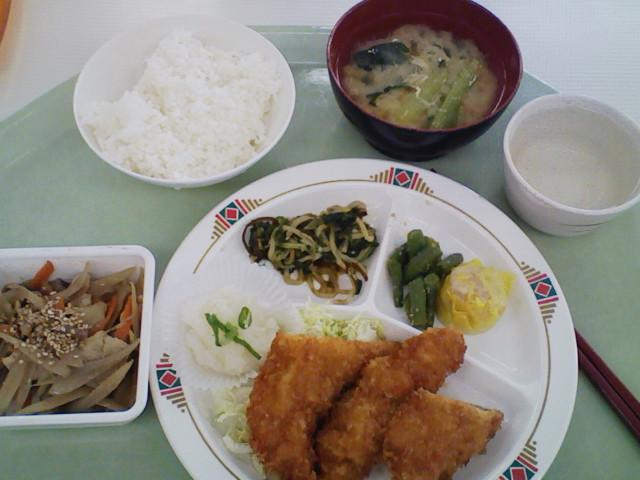plate: (149, 159, 577, 479)
